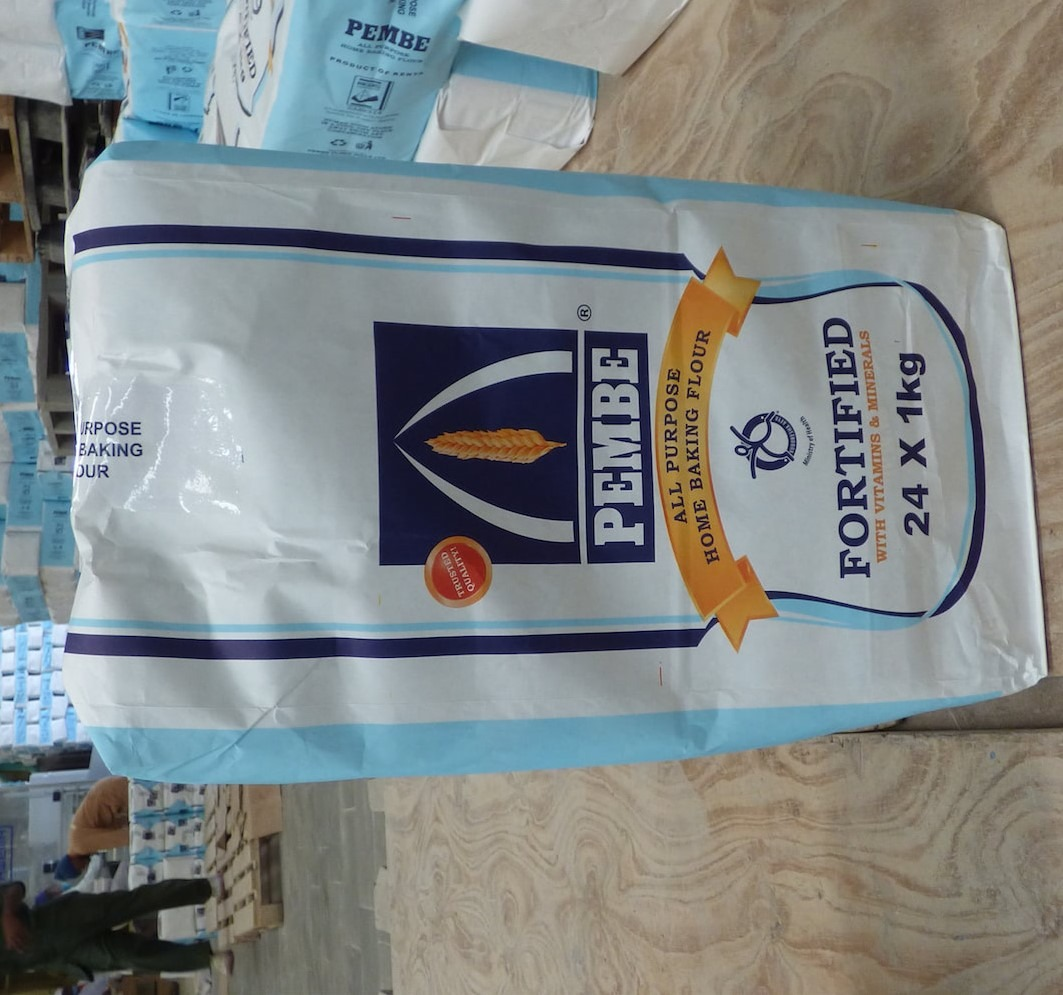wheat_flour_blue_label: (58, 133, 1041, 747)
